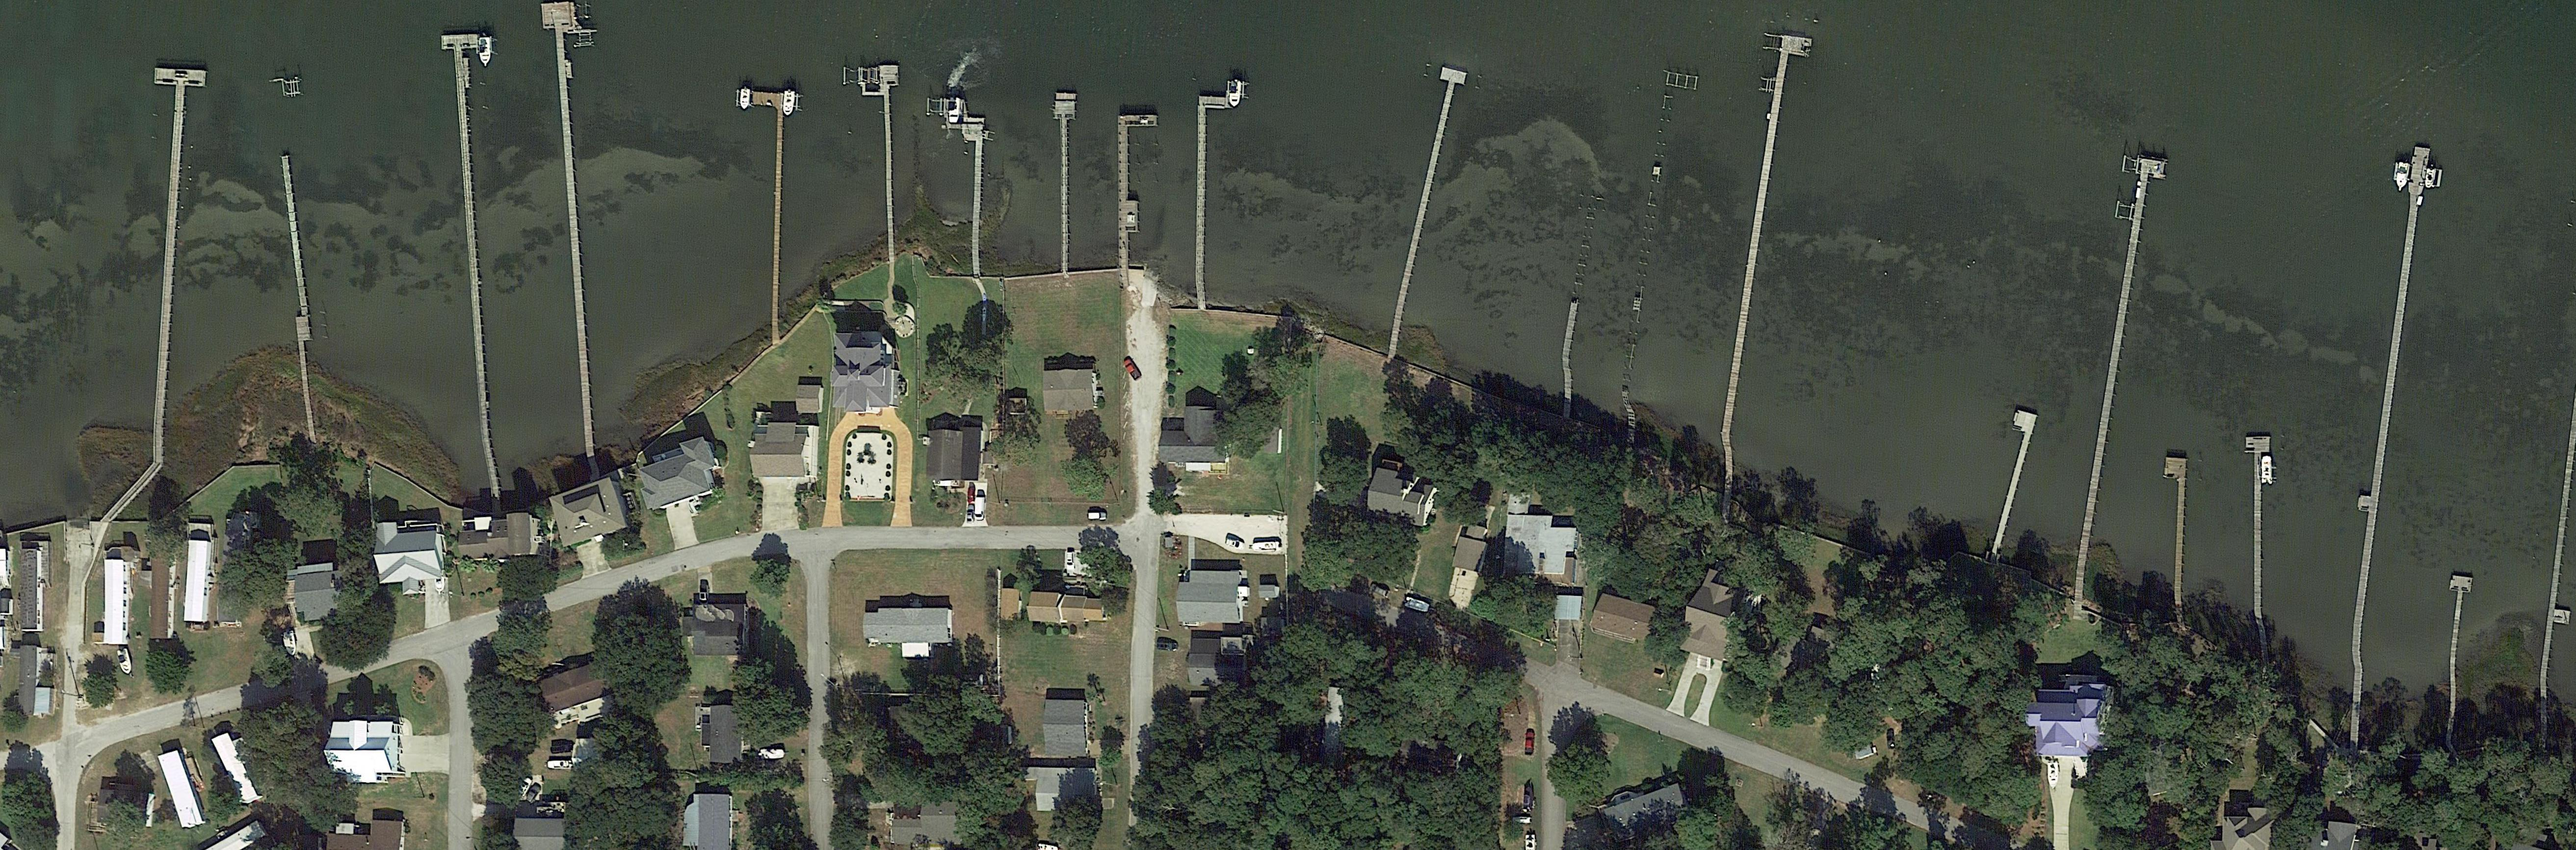harbor: (2341, 146, 2432, 649), (1718, 34, 1814, 438), (2082, 156, 2167, 531), (540, 2, 618, 398), (442, 32, 515, 440), (134, 67, 207, 465), (1379, 66, 1468, 330), (274, 153, 326, 444), (744, 91, 786, 323), (858, 63, 907, 258), (938, 96, 987, 276), (1978, 409, 2038, 553), (1194, 93, 1232, 284), (1118, 114, 1161, 262), (2243, 435, 2271, 617), (2438, 574, 2473, 717), (1551, 300, 1592, 419), (1054, 90, 1078, 273), (2160, 457, 2186, 606)
ship: (114, 647, 133, 674), (2394, 162, 2412, 190), (1403, 595, 1430, 615), (477, 35, 492, 66), (283, 629, 299, 657), (2260, 456, 2274, 485), (781, 90, 796, 116), (2047, 760, 2060, 790), (947, 99, 962, 125), (1250, 541, 1281, 552), (759, 747, 785, 760), (1230, 80, 1241, 107), (2423, 167, 2438, 187), (738, 88, 752, 110), (1524, 786, 1535, 810), (546, 759, 573, 769), (1511, 814, 1533, 825)
